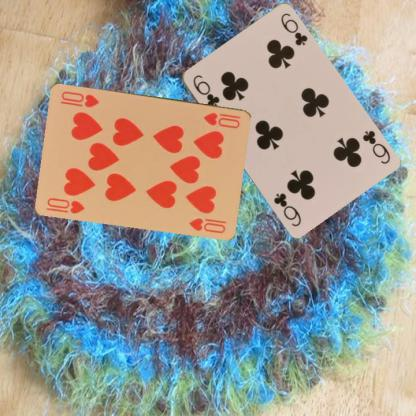10h: (201, 109, 242, 130), (45, 195, 86, 215)
6c: (360, 128, 392, 165), (190, 72, 221, 108)
